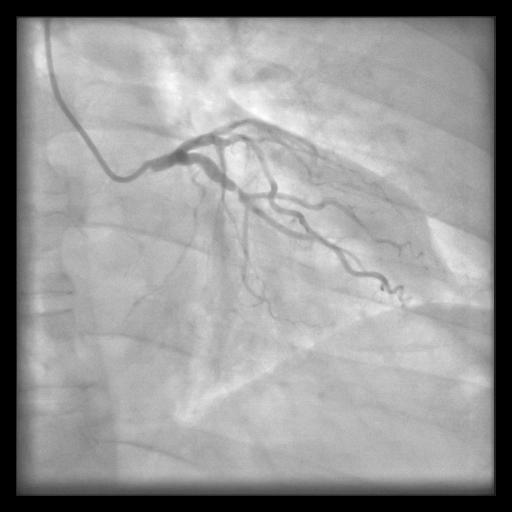Stenosis: (232, 181, 241, 199)
